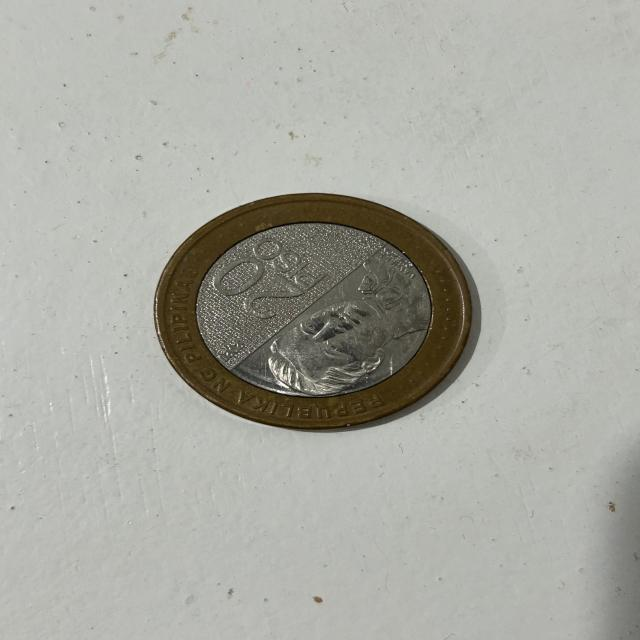20_New_Front: (208, 234, 341, 330)
